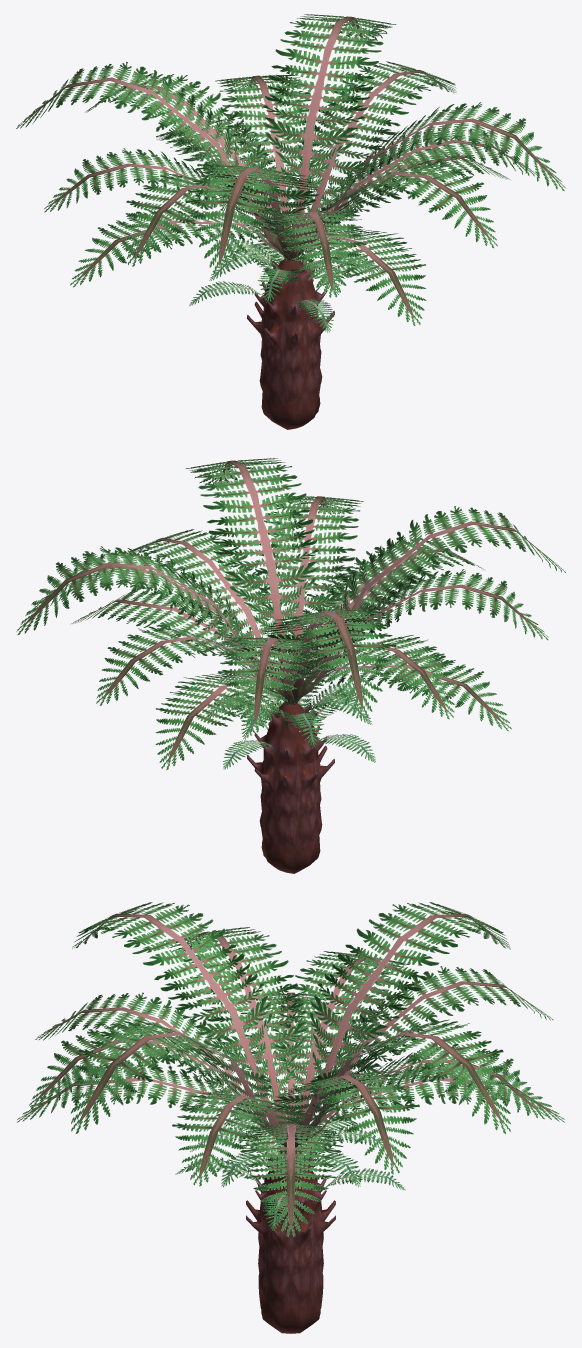
File: GiantFern.fbx
3 views of the same model, one above another, from view 1: azimuth 30°, elevation 25°; view 2: azimuth 150°, elevation 25°; view 3: azimuth 270°, elevation 25° (orthographic). The views are drawn at different scales.
Parts seen in each view (by area): view 1: FernLeaf.001, FernTrunk, FernLeaf.041; view 2: FernLeaf.001, FernTrunk, FernLeaf.041; view 3: FernLeaf.001, FernTrunk, FernLeaf.041.
Part boxes in pixels (<box>): FernLeaf.001: <box>16,14,565,326</box>; FernTrunk: <box>247,259,334,429</box>; FernLeaf.041: <box>189,220,387,332</box>; FernLeaf.001: <box>16,458,565,770</box>; FernTrunk: <box>247,702,334,873</box>; FernLeaf.041: <box>207,666,377,769</box>; FernLeaf.001: <box>17,902,564,1236</box>; FernTrunk: <box>246,1149,335,1333</box>; FernLeaf.041: <box>175,1103,405,1230</box>.
Size of the model in its own units: 8.43 by 5.91 by 8.43.
3 materials, 3 textured.
